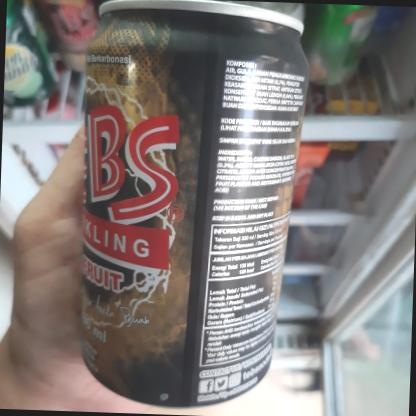alumunium_can: (38, 0, 305, 406)
